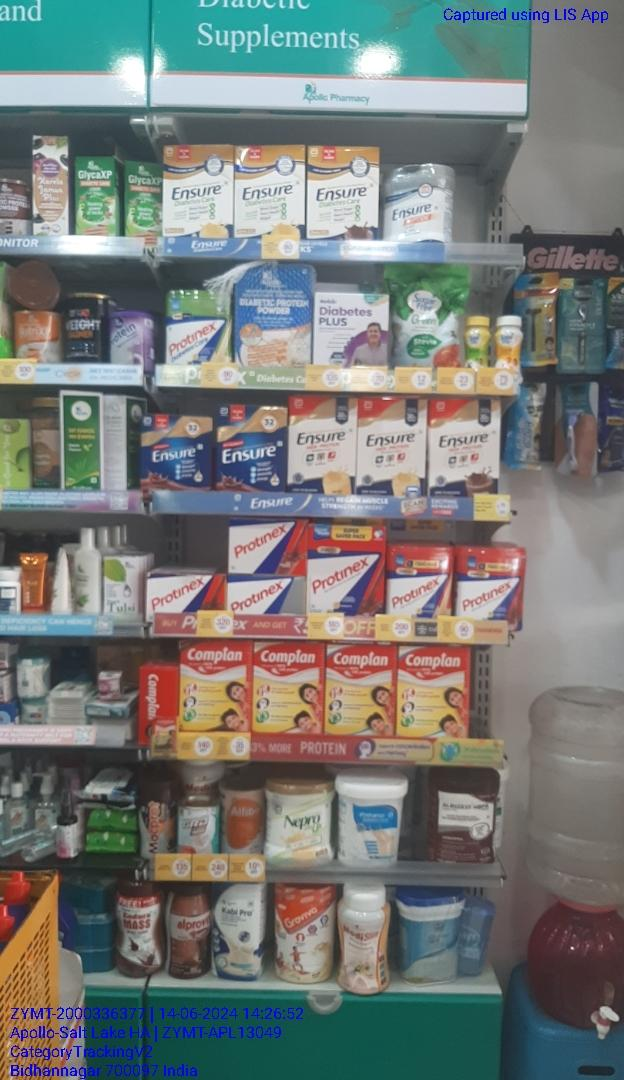COMPLAN_CHOCOLATE_200_GMS_PACK: (178, 639, 252, 731)
COMPLAN_CREAMY_CLASSIC_500_G_PACK: (399, 644, 468, 740), (326, 644, 397, 736)
COMPLAN_KESAR_BADAM_500_GMS_PACK: (252, 641, 324, 733)
ENSURE_VANILLA_400_G_PACK: (358, 398, 427, 496), (288, 395, 357, 493)
PROTINEX_CHOCOLATE_400_G_JAR: (459, 546, 527, 634)
